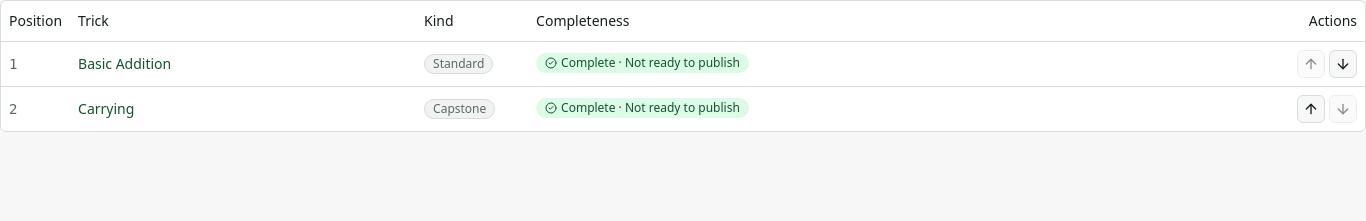
Test: TrickOrderList › shows an alert and keeps the server order when reordering fails
This screenshot has width=1366, height=221.
Click the button named "Move Carrying up": (1311, 108) [1297,94,1325,122]
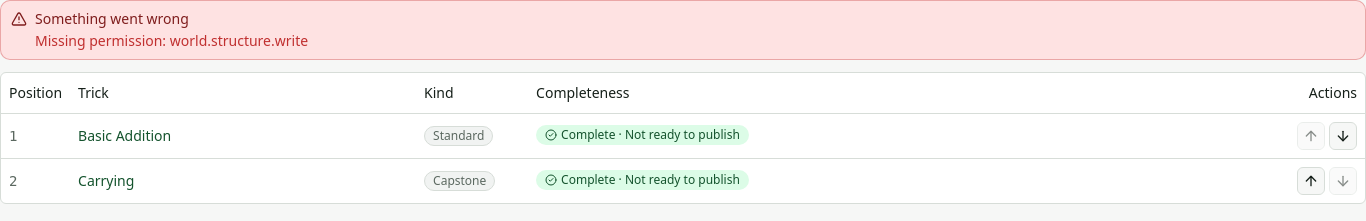
Now the message shows "Missing permission: world.structure.write", box [35,31,308,50]
